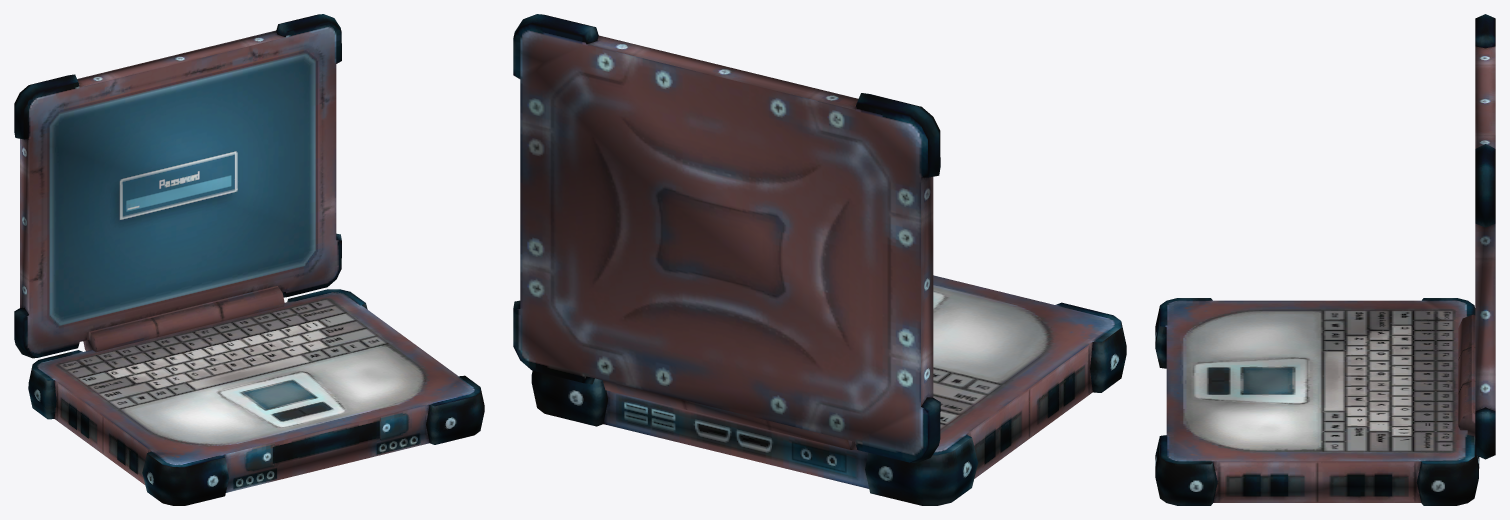
The model's file is Laptop.obj.
3 views of the same model, side by side, from view 1: azimuth 30°, elevation 25°; view 2: azimuth 150°, elevation 25°; view 3: azimuth 270°, elevation 25° (orthographic). The views are drawn at different scales.
Visible parts, largest first — view 1: laptop; view 2: laptop; view 3: laptop.
Boxes of the visible parts, <box> form: laptop: <box>14,14,484,505</box>; laptop: <box>513,14,1126,505</box>; laptop: <box>1155,14,1495,505</box>.
Bounding box in the file's own units: 1.05 × 0.9603 × 0.8903.
